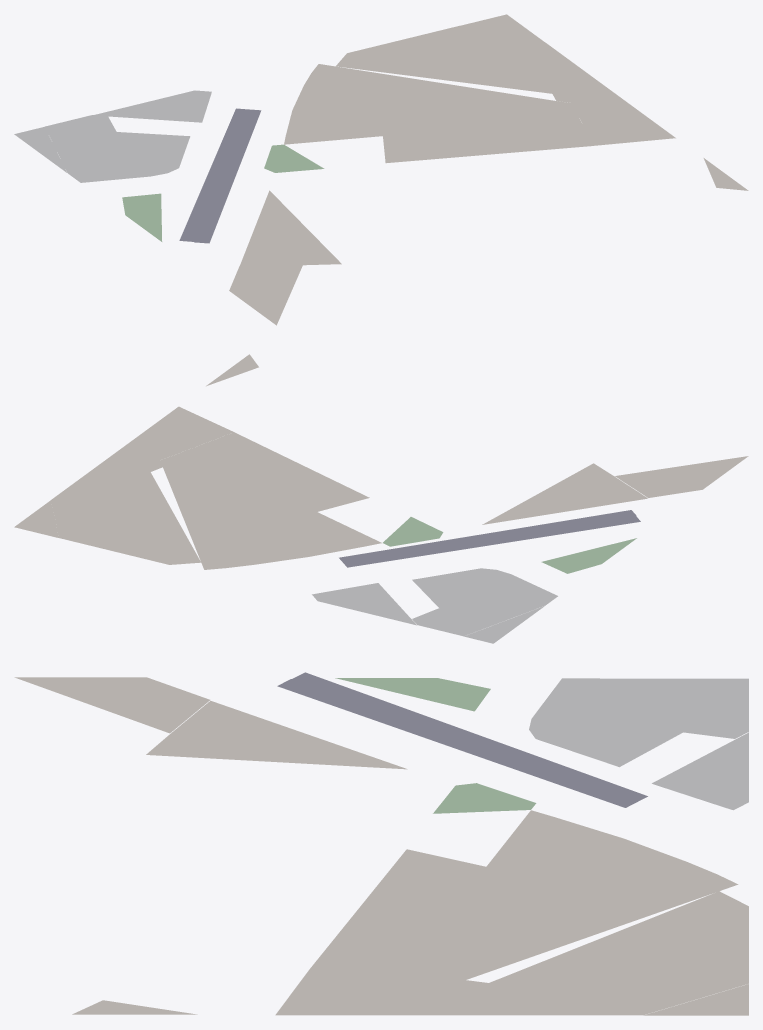
File: 104_114_mid.glb
3 views of the same model, one above another, from view 1: azimuth 30°, elevation 25°; view 2: azimuth 150°, elevation 25°; view 3: azimuth 270°, elevation 25° (orthographic). The views are drawn at different scales.
Bounding box in the file's own units: 500 × 7.88 × 461.
